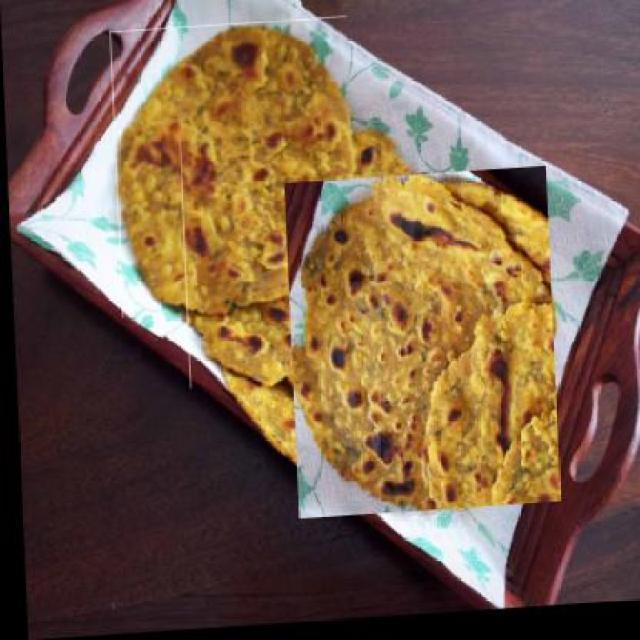chapati: (280, 171, 558, 524), (109, 21, 357, 321), (178, 131, 424, 392)
